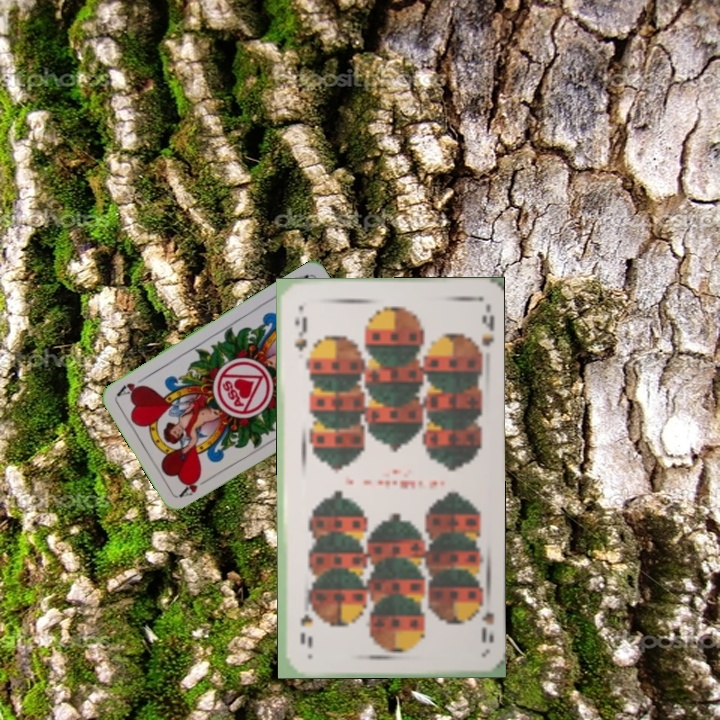HA: (176, 472, 213, 500)
S9: (470, 592, 496, 645), (290, 312, 310, 354)
